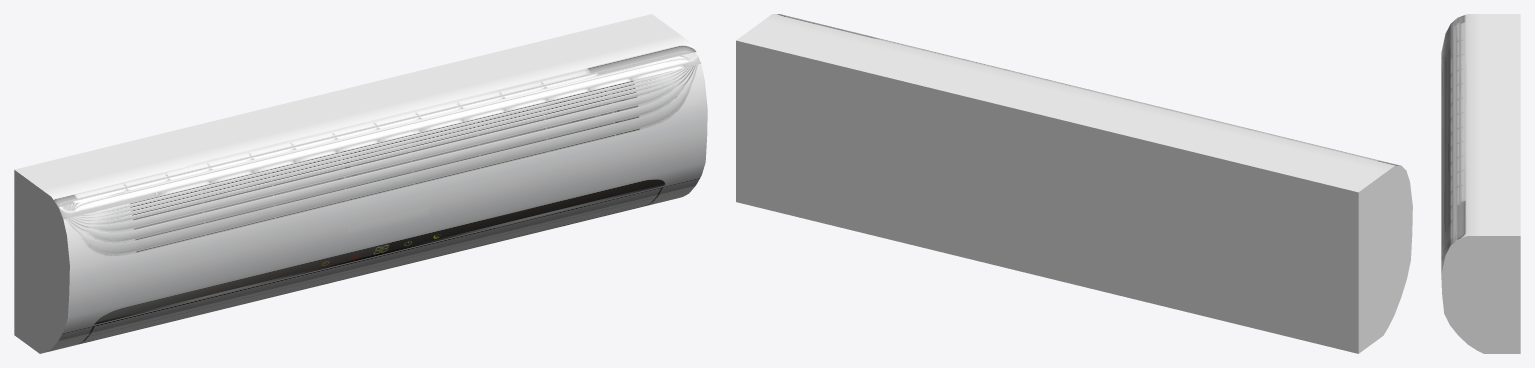
Rendered from airconditioner.FBX.
The picture shows the model from 3 angles, left to right: view 1: azimuth 30°, elevation 25°; view 2: azimuth 150°, elevation 25°; view 3: azimuth 270°, elevation 25°; orthographic projection. The views are drawn at different scales.
Parts seen in each view (by area): view 1: Box001; view 2: Box001; view 3: Box001.
Boxes of the visible parts, box(x1,y1,x2,y2) form: Box001: box(14, 14, 707, 353); Box001: box(736, 14, 1412, 353); Box001: box(1441, 14, 1520, 353).
Size of the model in its own units: 127 by 31.62 by 19.29.
